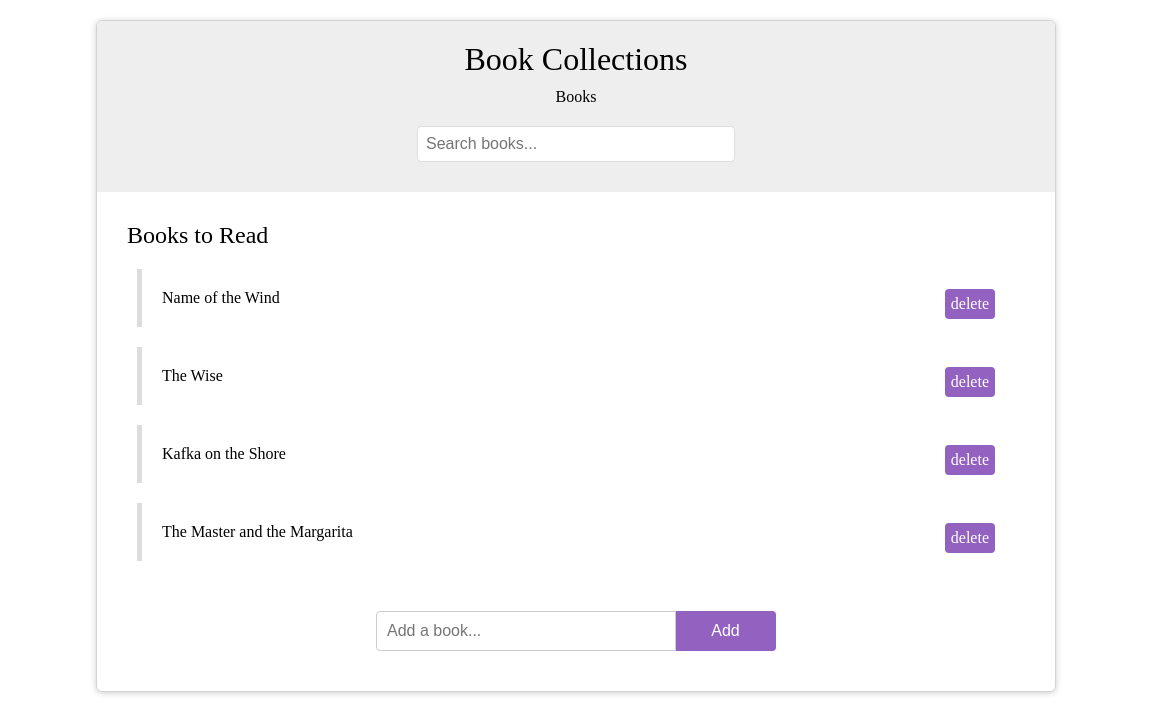
Test: that i can search for a book
The image size is (1152, 720).
In the field with placeholder "Search books...": (576, 144) [417,126,735,162], type "Kafka"
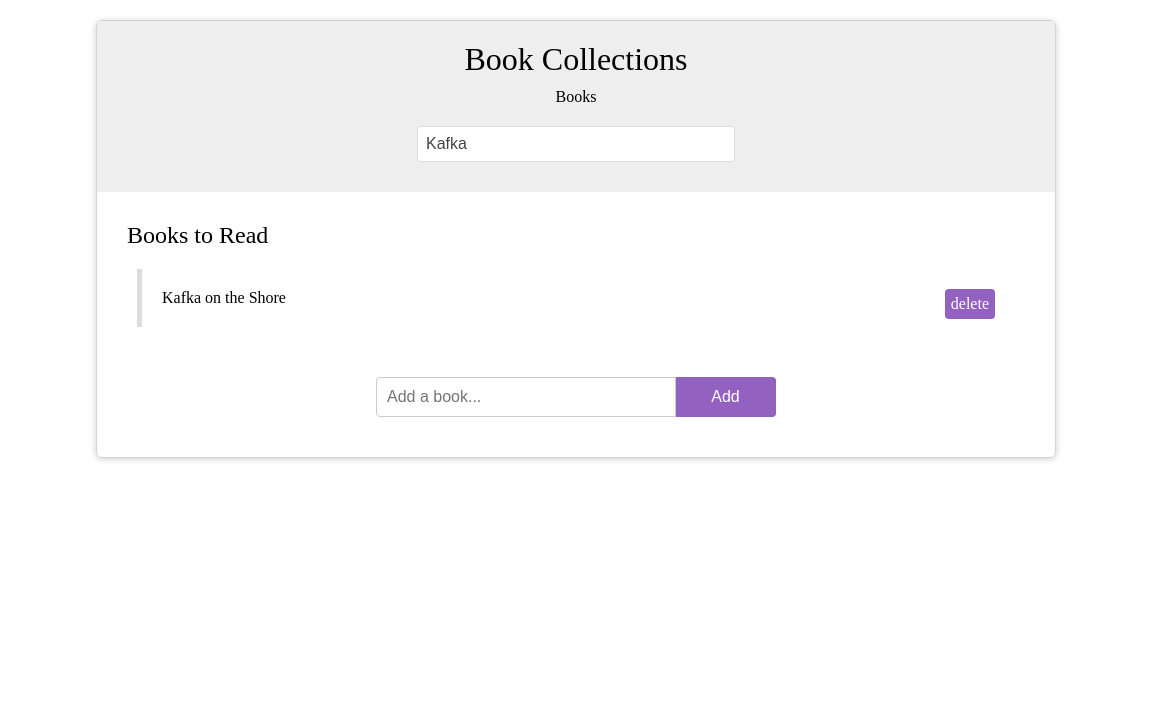
Expected: the text "Kafka on the Shore" is shown, [162,289,286,306]
